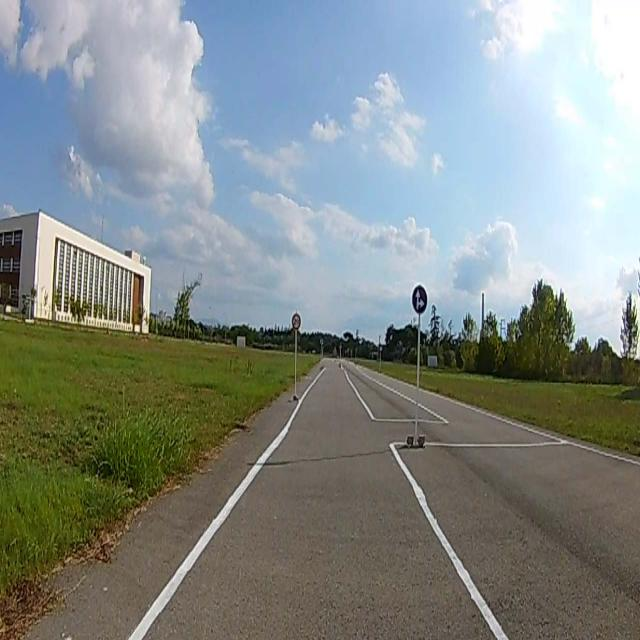ilerisag: (414, 286, 427, 310)
